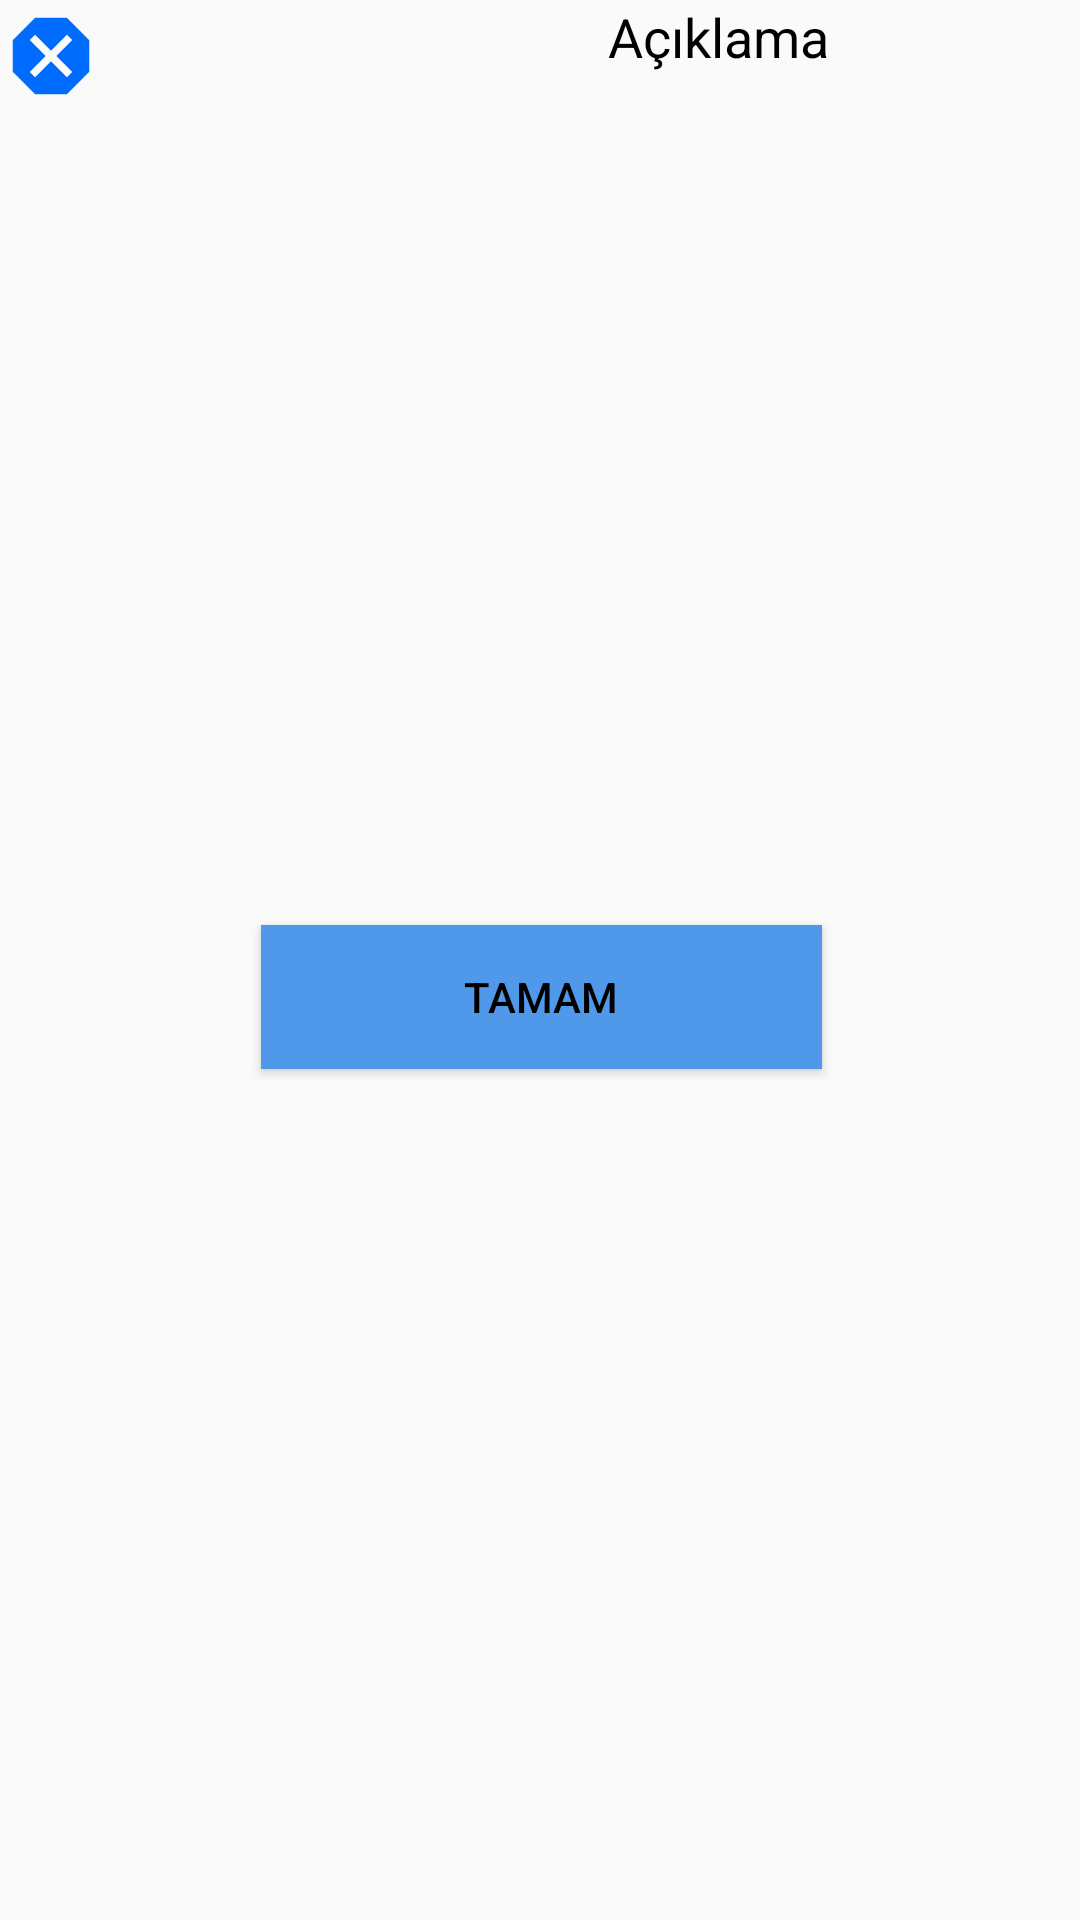

Icon click points for this 1080w x 1920h phone screenshot, format [x,y]:
dangerous: [51,56]
